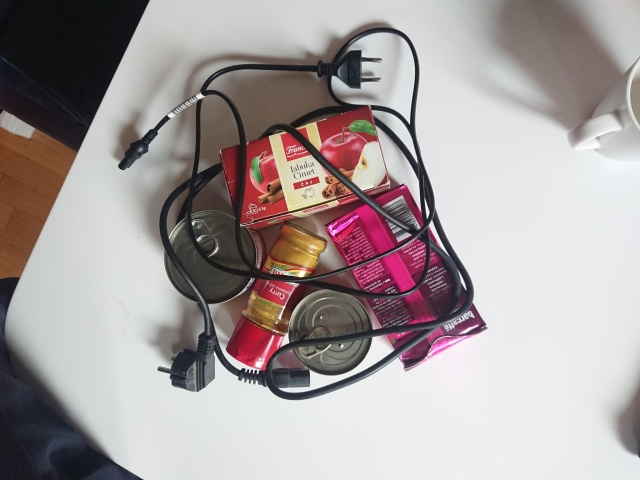Barcaffe Classic Original 225g: (323, 180, 490, 373)
Franck Apple Cinnamon Tea 60g: (217, 102, 394, 233)
Giana Tuna Salad Mexico 185g: (161, 208, 269, 307)
Kotanyi Curry Spices Mix 70g: (223, 218, 331, 373)
Podravka Luncheon Meat 150g: (285, 287, 375, 377)
